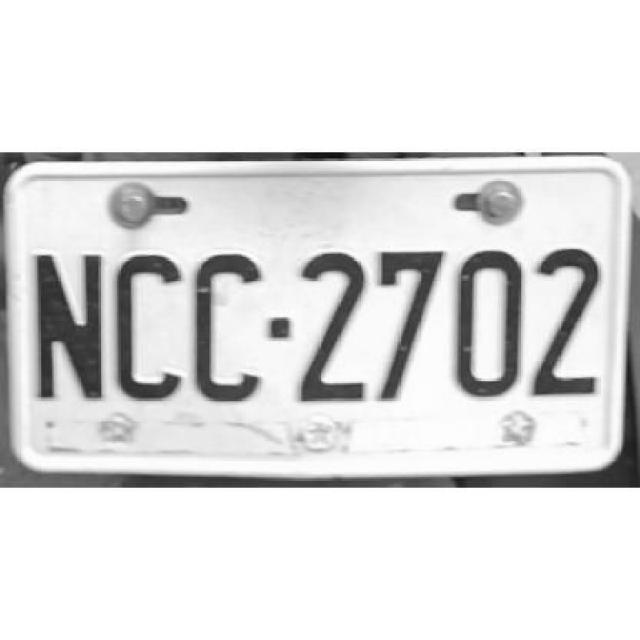-: (266, 316, 292, 342)
0: (449, 245, 525, 403)
2: (526, 242, 602, 406), (294, 246, 369, 408)
7: (369, 245, 446, 408)
C: (109, 246, 185, 406), (189, 249, 263, 408)
N: (26, 245, 106, 404)
